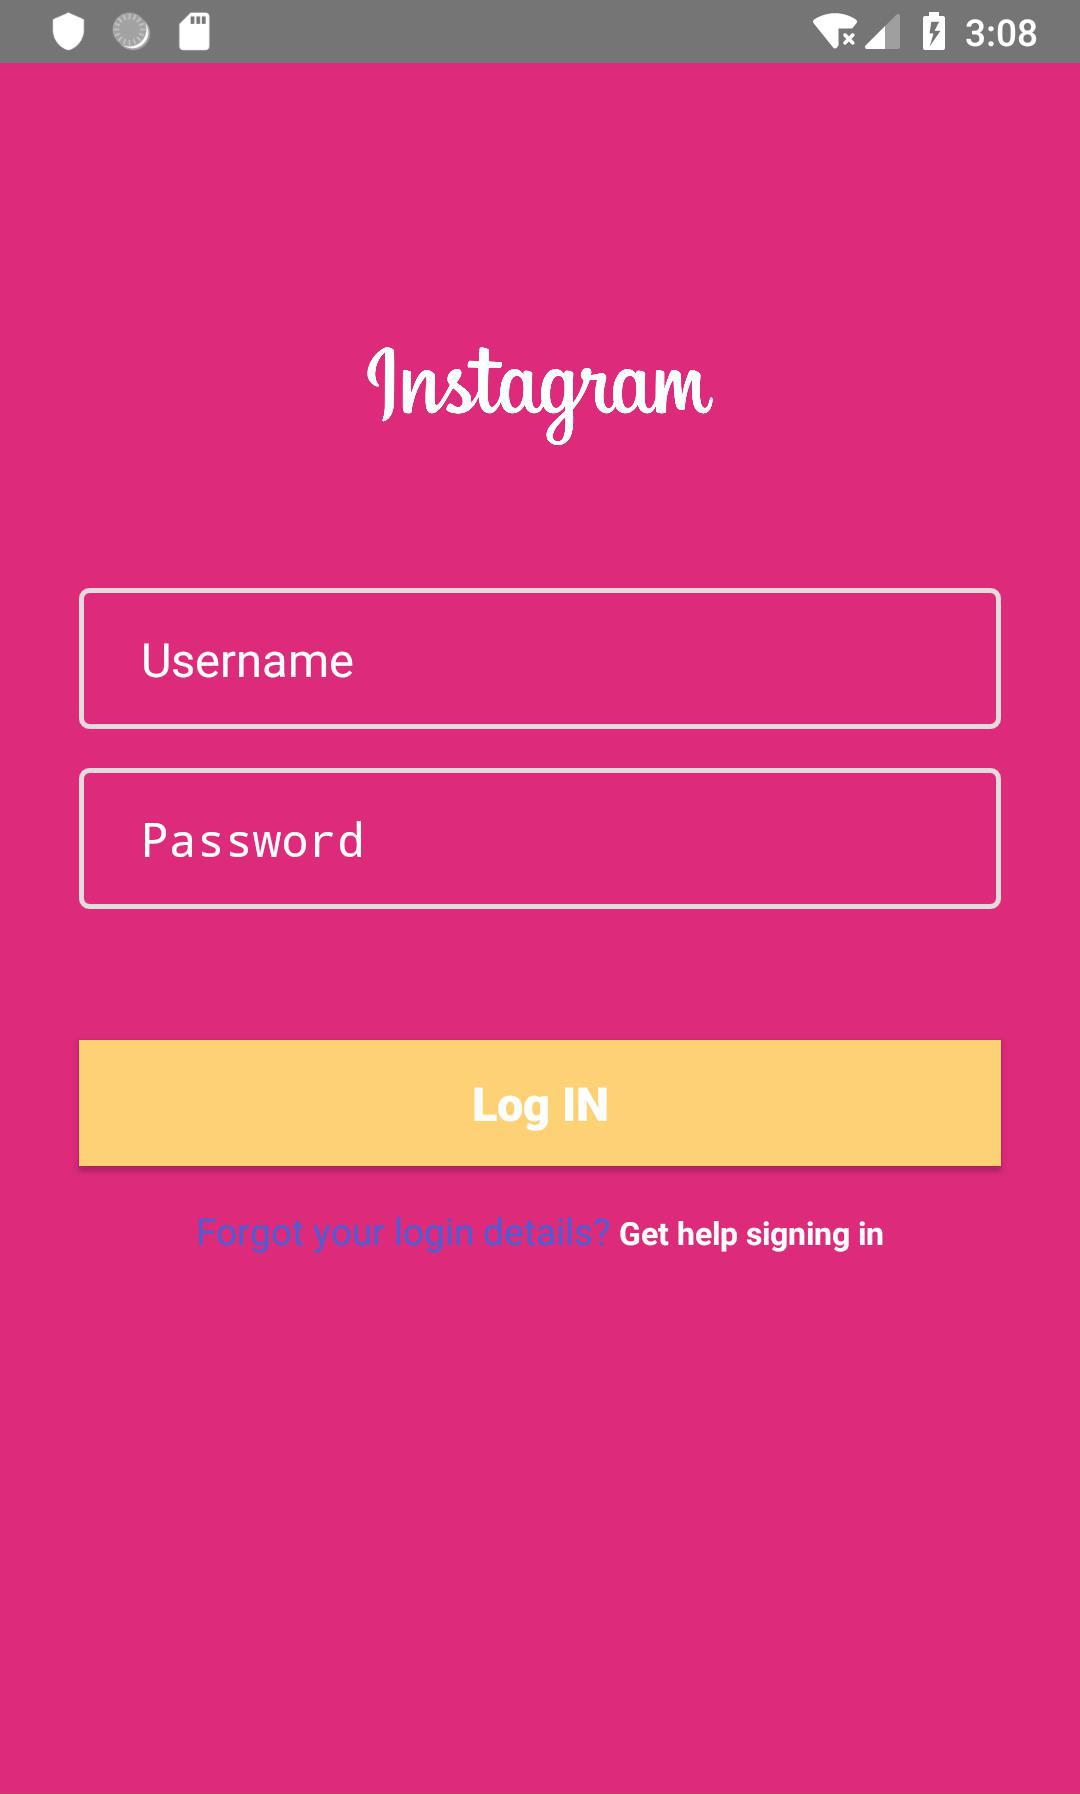EditText: (79, 588, 1002, 730), (79, 768, 1002, 910)
Image: (366, 345, 716, 448)
Text: (199, 1216, 611, 1255), (620, 1220, 884, 1253), (145, 820, 363, 859), (143, 643, 354, 679)
TextButton: (79, 1041, 1002, 1166)
UpperTaskBar: (1, 1, 1080, 64)
